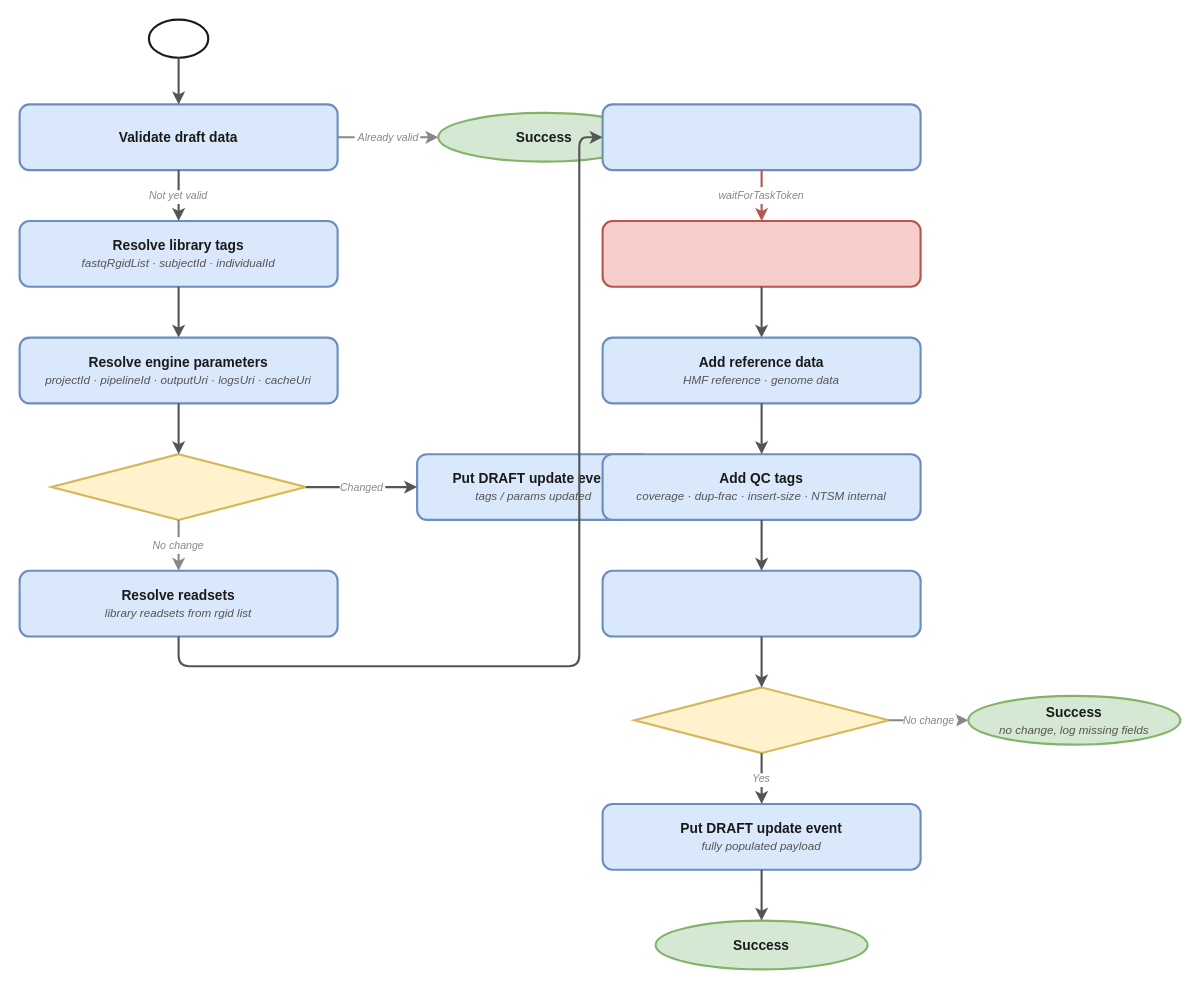
Image size: 1199x988. Some labels were removed from this diagram. Each missing label, with the box of its shape:
Compare payload generate WRU object + diff old vs new: (601, 569, 921, 637)
Payload changed?: (633, 686, 889, 754)
Resolve inputs sequence data + default params + sample IDs: (601, 103, 921, 171)
Start: (147, 18, 209, 58)
Tags or engine params changed?: (50, 453, 306, 520)
Wait for FASTQs QC + fingerprint + unarchiving: (601, 219, 921, 287)
